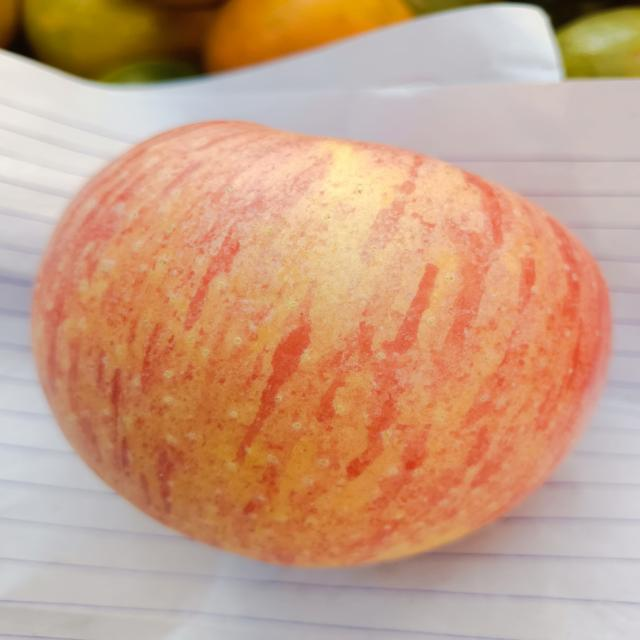Fresh Apple: (37, 118, 611, 572)
